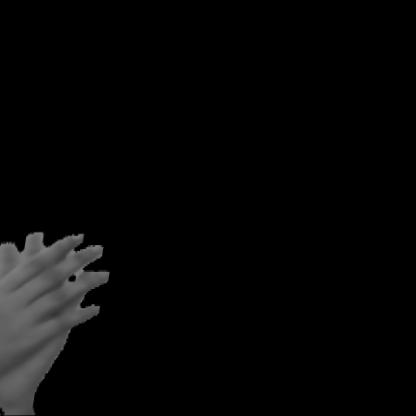clap: (0, 234, 123, 414)
